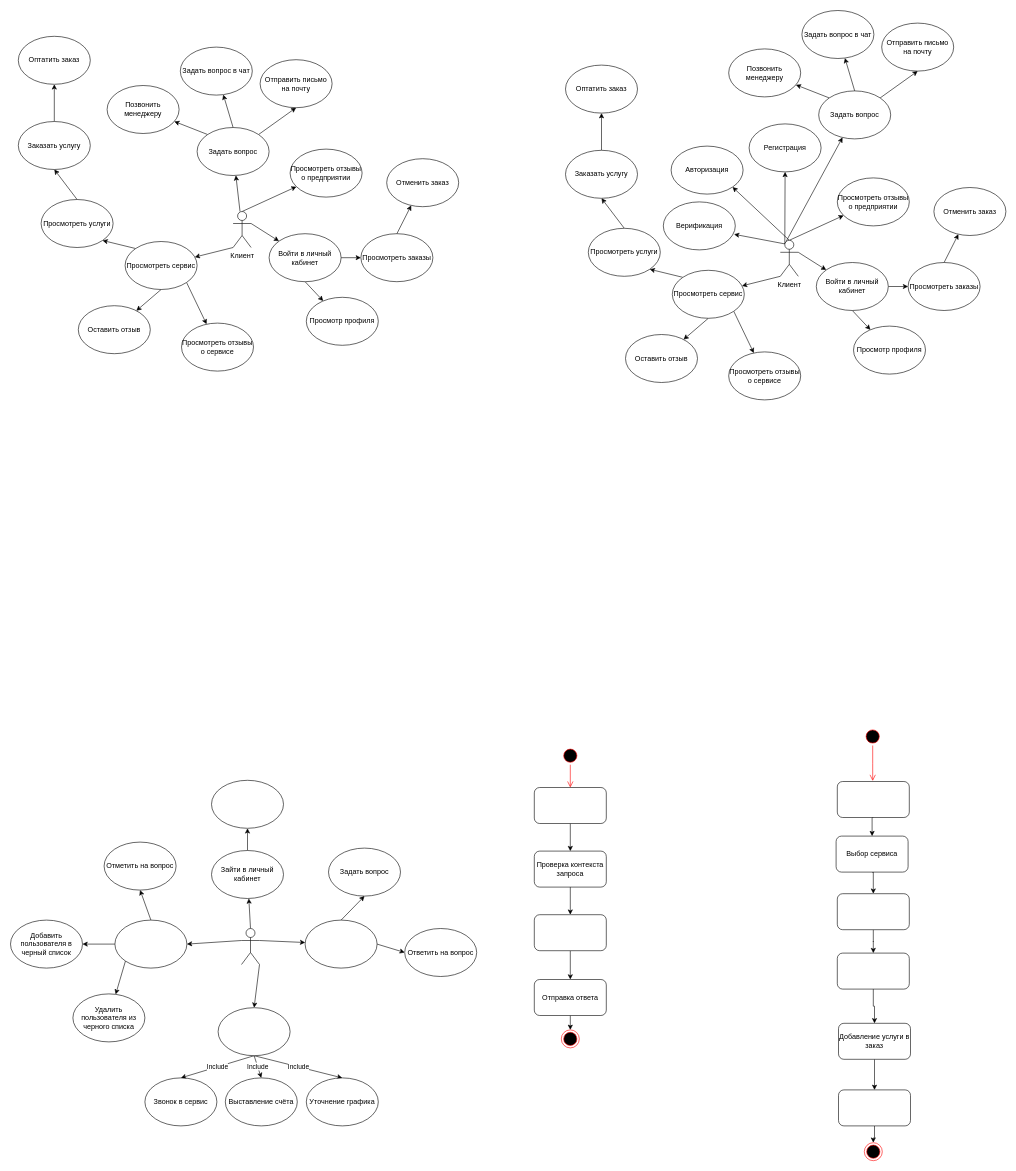
Some shapes in this 1016 by 1171 pixel diagram are drawn without their labels. The shapes that lost their labels are listed below. From the top down, each one's centre as x and y in pixels, then its label:
At [247,804]: "Вывести деньги со счета".
At [570,805]: "Ожидание запроса пользователей".
At [873,799]: "Вход в аккаунт".
At [873,911]: "Просмотр услуг".
At [150,944]: "Просмотреть чаты с пользователями".
At [250,946]: "Сотрудник".
At [340,944]: "Просмотреть чаты с менеджерами".
At [570,932]: "Обработка запроса".
At [873,970]: "Создание заказа".
At [254,1031]: "Формирование заказа".
At [874,1107]: "Оплата услуги".
